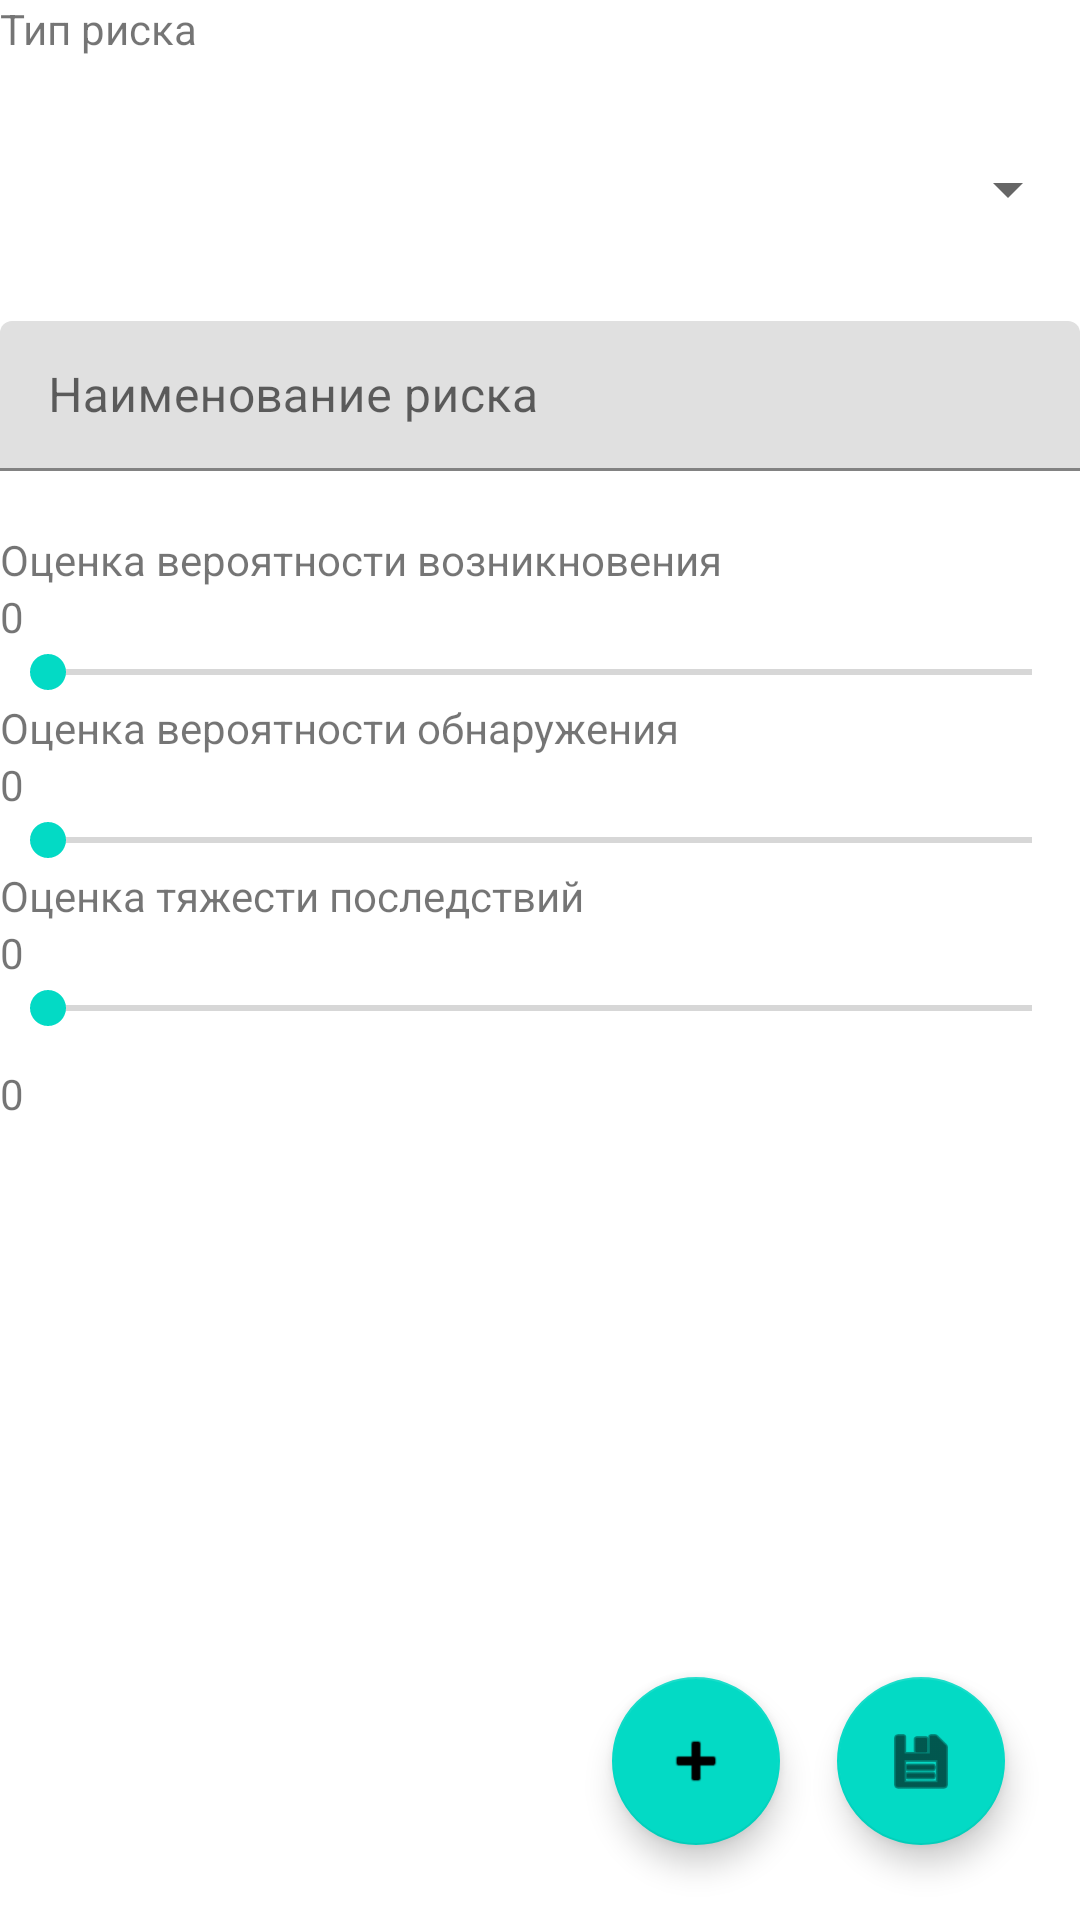

Where to tap for icons on this 1080 × 1920 app screen, as [x,y]:
add: [696,1761]
save: [921,1761]
